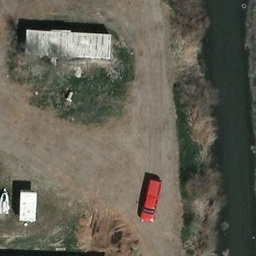car: (139, 175, 163, 224)
